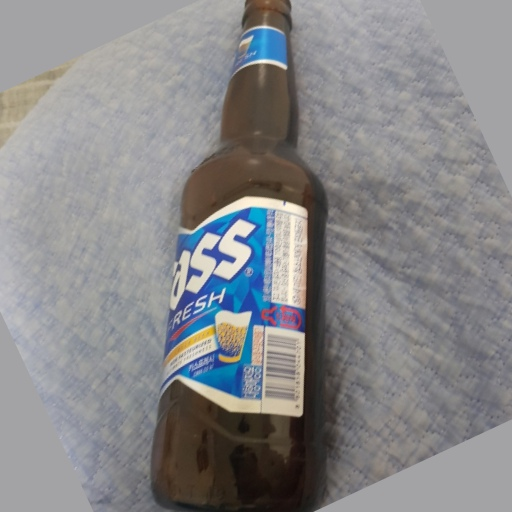Glass_1: (148, 1, 330, 512)
